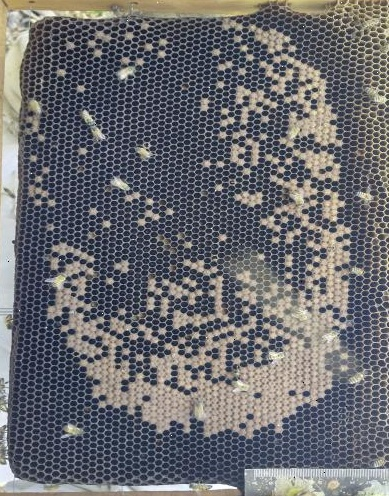cria: (41, 18, 354, 442), (54, 22, 169, 93)
